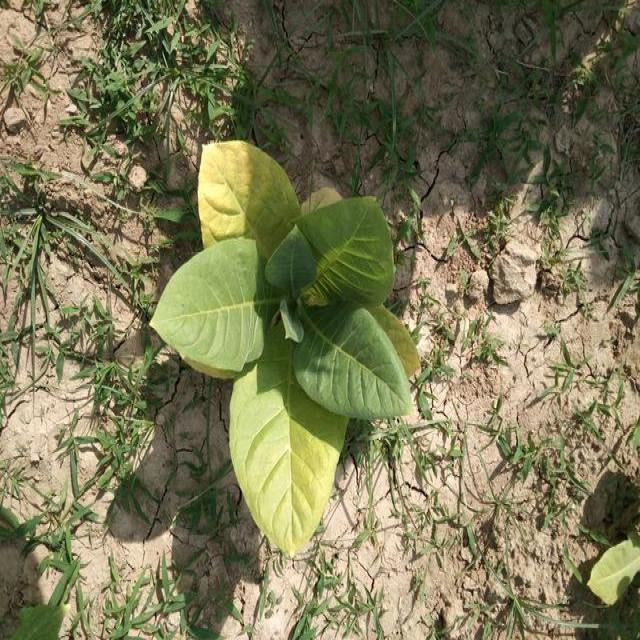crop: (152, 135, 426, 564)
